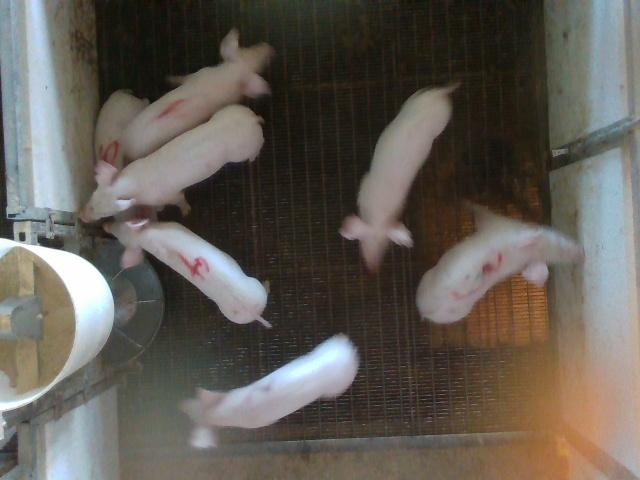pig-1: (124, 30, 274, 160)
pig-2: (180, 334, 359, 449)
pig-3: (416, 202, 584, 324)
pig-4: (104, 219, 269, 327)
pig-5: (95, 90, 149, 168)
